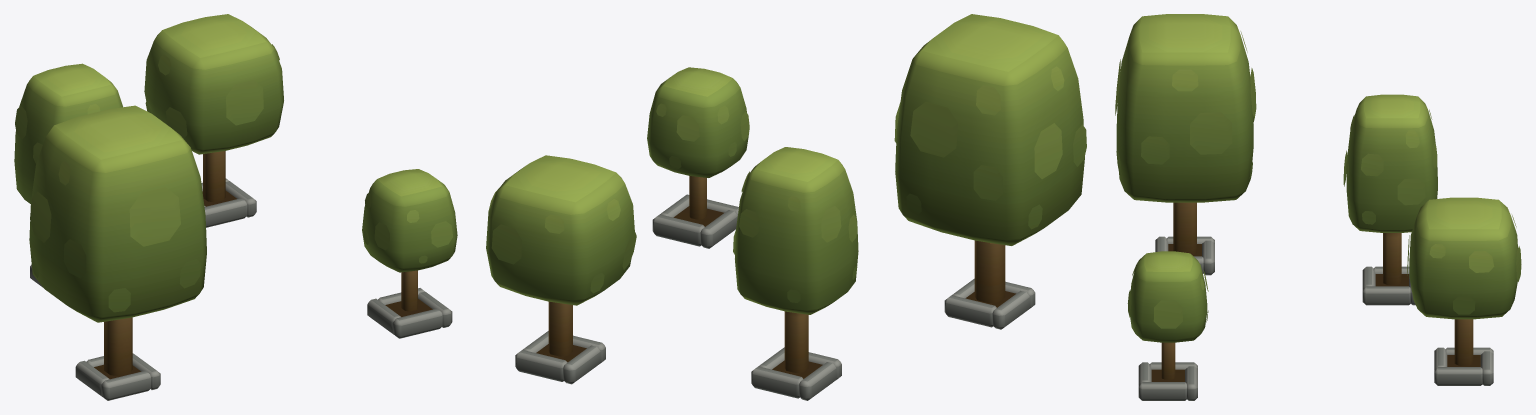
Rendered from trees.glb.
3 renders of one model, left to right at view 1: azimuth 30°, elevation 25°; view 2: azimuth 150°, elevation 25°; view 3: azimuth 270°, elevation 25°, orthographic. The views are drawn at different scales.
Parts seen in each view (by area): view 1: tree_5, tree_2, tree_1, tree_3; view 2: tree_5, tree_2, tree_3, tree_1; view 3: tree_5, tree_2, tree_3, tree_1.
Part boxes in pixels (x1,y1,x2,y2): tree_5: (29, 105, 206, 400); tree_2: (144, 14, 283, 227); tree_1: (362, 169, 457, 338); tree_3: (14, 63, 122, 287); tree_5: (894, 14, 1086, 329); tree_2: (486, 155, 636, 384); tree_3: (733, 147, 858, 400); tree_1: (647, 67, 749, 248); tree_5: (1115, 14, 1256, 275); tree_2: (1407, 197, 1521, 385); tree_3: (1343, 94, 1437, 305); tree_1: (1127, 251, 1208, 400).
Size of the model in its own units: 11.03 by 6.95 by 10.93.
4 materials, 4 textured.
